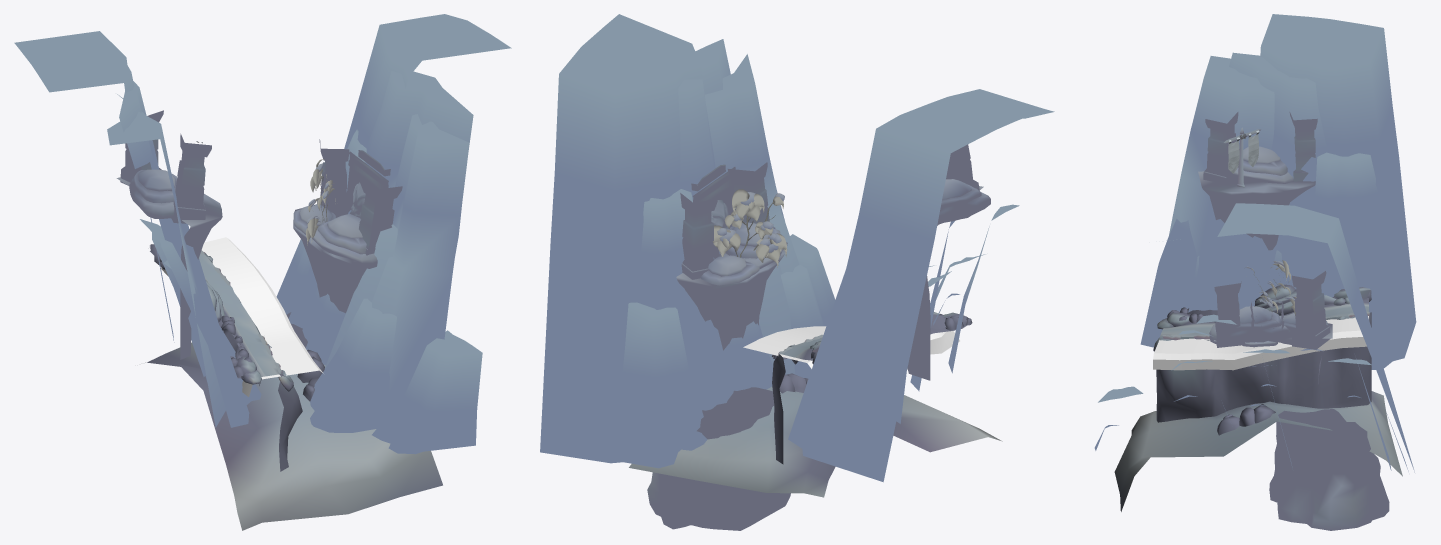
The model's file is Arctic_Narrows_Right_Curve_Right_10_A.glb.
3 views of the same model, side by side, from view 1: azimuth 30°, elevation 25°; view 2: azimuth 150°, elevation 25°; view 3: azimuth 270°, elevation 25° (orthographic). The views are drawn at different scales.
Parts seen in each view (by area): view 1: Arctic_Narrows_Right_Curve_Right_10_A, inv_fill; view 2: Arctic_Narrows_Right_Curve_Right_10_A, inv_fill; view 3: Arctic_Narrows_Right_Curve_Right_10_A, inv_fill.
Part boxes in pixels (x1,y1,x2,y2): Arctic_Narrows_Right_Curve_Right_10_A: (14,14,511,530); inv_fill: (161,237,323,396); Arctic_Narrows_Right_Curve_Right_10_A: (540,14,1054,530); inv_fill: (743,326,959,368); Arctic_Narrows_Right_Curve_Right_10_A: (1094,14,1416,530); inv_fill: (1153,316,1368,370).
Size of what is drawn, in the model's own units: 23.1 by 21.56 by 17.77.
